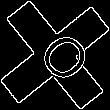O_SW: (21, 22, 89, 88)
